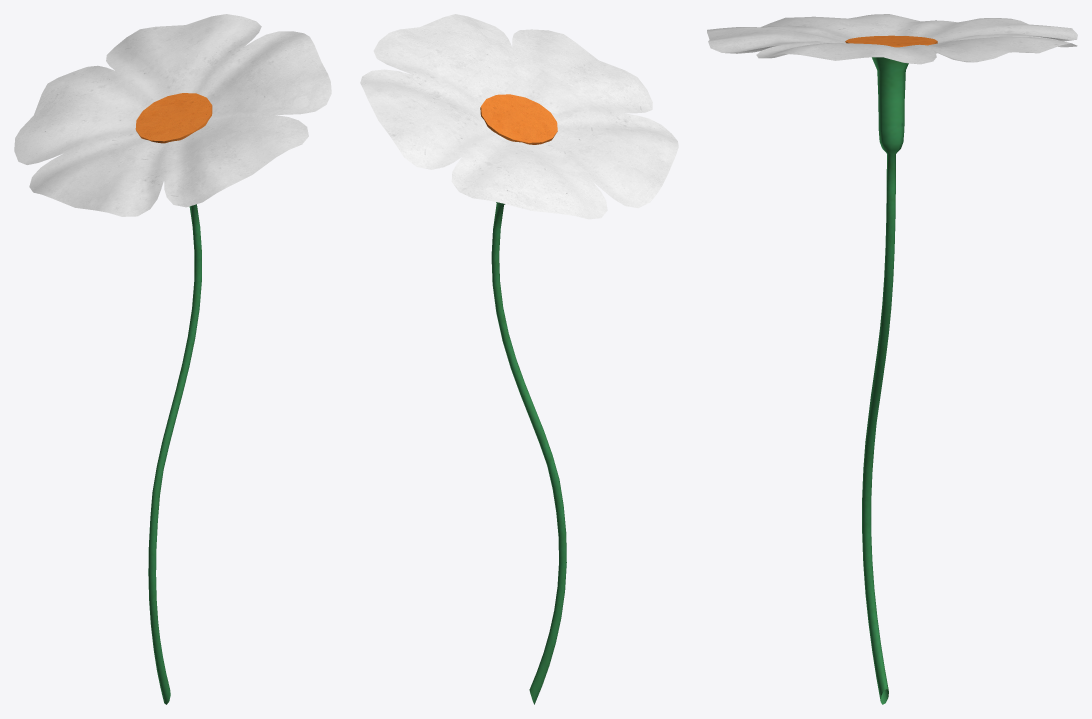
Rendered from Flower.fbx.
3 renders of one model, left to right at view 1: azimuth 30°, elevation 25°; view 2: azimuth 150°, elevation 25°; view 3: azimuth 270°, elevation 25°, orthographic. The views are drawn at different scales.
Parts seen in each view (by area): view 1: Flower; view 2: Flower; view 3: Flower.
Part boxes in pixels (x1,y1,x2,y2): Flower: (14, 14, 331, 704); Flower: (360, 14, 678, 704); Flower: (707, 14, 1077, 704).
Bounding box in the file's own units: 5.29 × 5.47 × 11.84.
